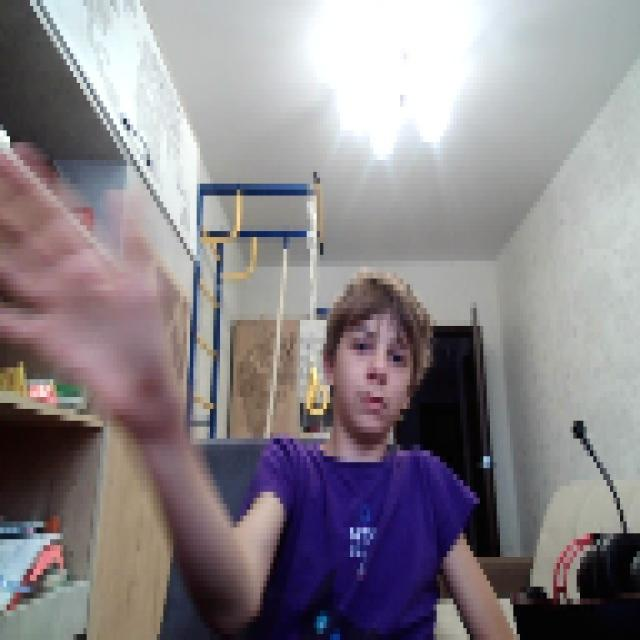hand: (0, 131, 160, 404)
